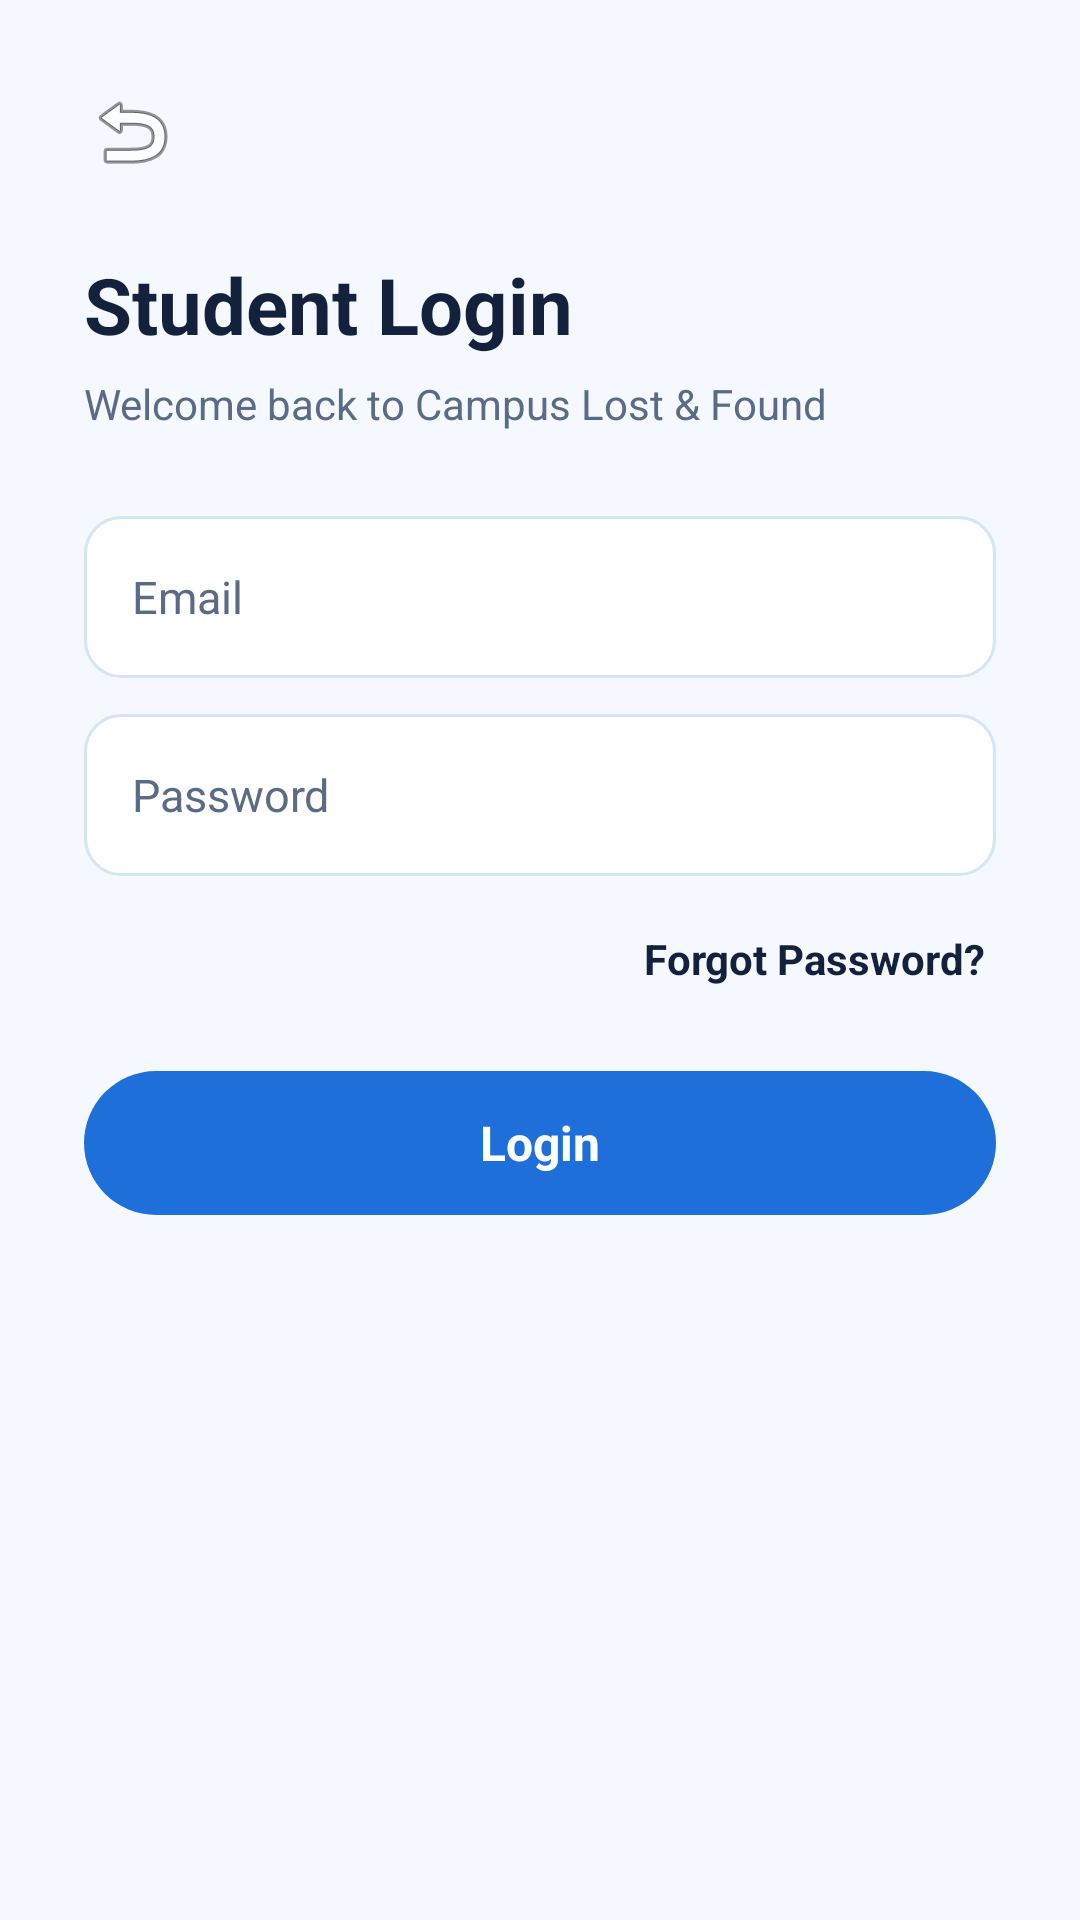

Named icons in this screenshot (1080*1920) and their bounding boxes, (x1, y1, x2, y2):
Back: (99, 101, 168, 164)
